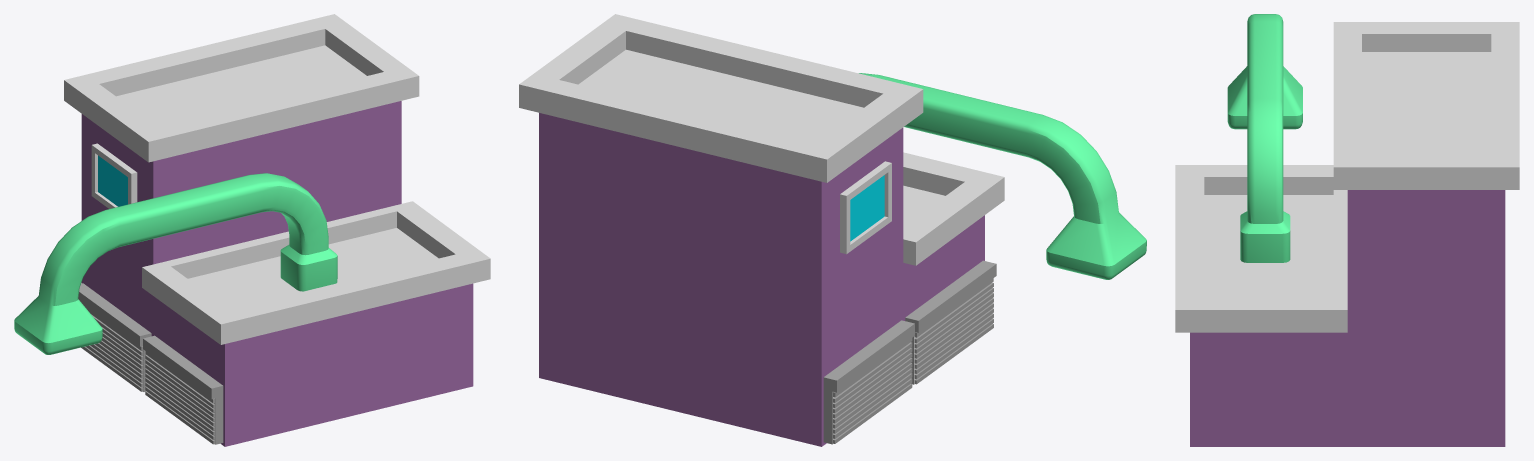
Rendered from CargoFactory.fbx.
The picture shows the model from 3 angles, left to right: view 1: azimuth 30°, elevation 25°; view 2: azimuth 150°, elevation 25°; view 3: azimuth 270°, elevation 25°; orthographic projection. The views are drawn at different scales.
Visible parts, largest first — view 1: KargoFabrika, Baca; view 2: KargoFabrika, Baca; view 3: KargoFabrika, Baca.
Part boxes in pixels (x1=…): KargoFabrika: x1=64, y1=14, x2=490, y2=446; Baca: x1=14, y1=173, x2=337, y2=354; KargoFabrika: x1=519, y1=14, x2=1004, y2=446; Baca: x1=859, y1=73, x2=1146, y2=279; KargoFabrika: x1=1175, y1=22, x2=1519, y2=446; Baca: x1=1227, y1=14, x2=1302, y2=262.
Bounding box in the file's own units: 214 × 126 × 138.
